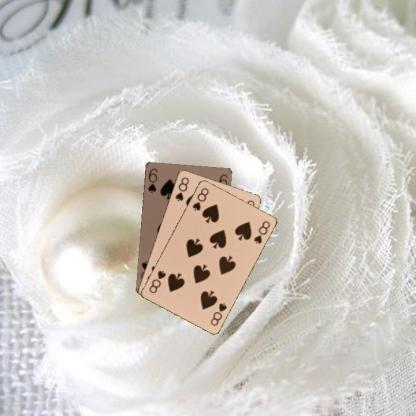6s: (146, 166, 158, 194)
8s: (208, 300, 228, 327), (190, 185, 210, 211), (173, 175, 190, 202)
